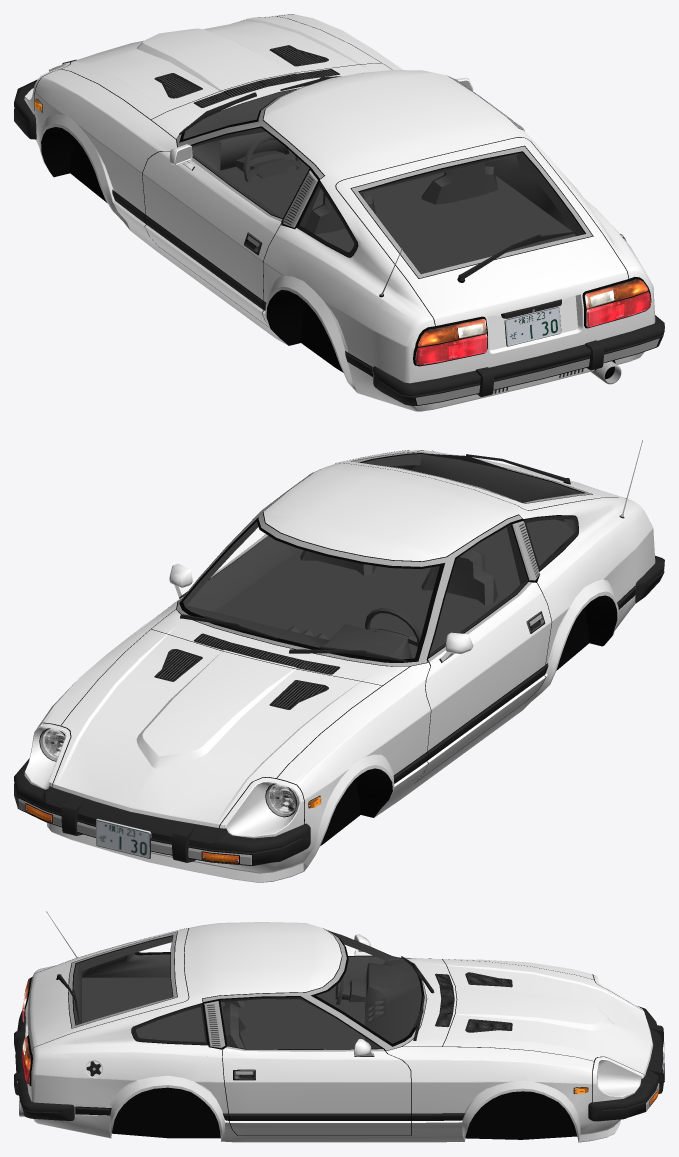
File: vehicle.gltf
3 views of the same model, one above another, from view 1: azimuth 30°, elevation 25°; view 2: azimuth 150°, elevation 25°; view 3: azimuth 270°, elevation 25° (orthographic). The views are drawn at different scales.
Parts seen in each view (by area): view 1: body; view 2: body; view 3: body.
Part boxes in pixels (left/top/right/bottom): body: left=14, top=14, right=664, bottom=411; body: left=14, top=440, right=664, bottom=882; body: left=14, top=911, right=664, bottom=1142.
Bounding box in the file's own units: 1.9 × 1.2 × 4.57.
18 materials, 12 textured.
